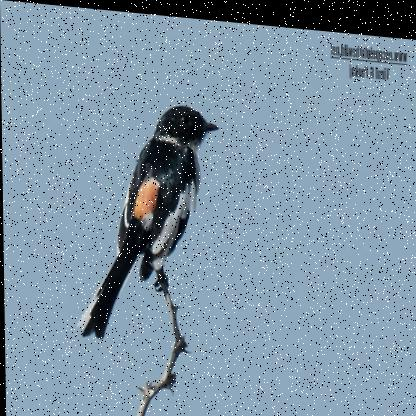Burung: (73, 94, 222, 346)
